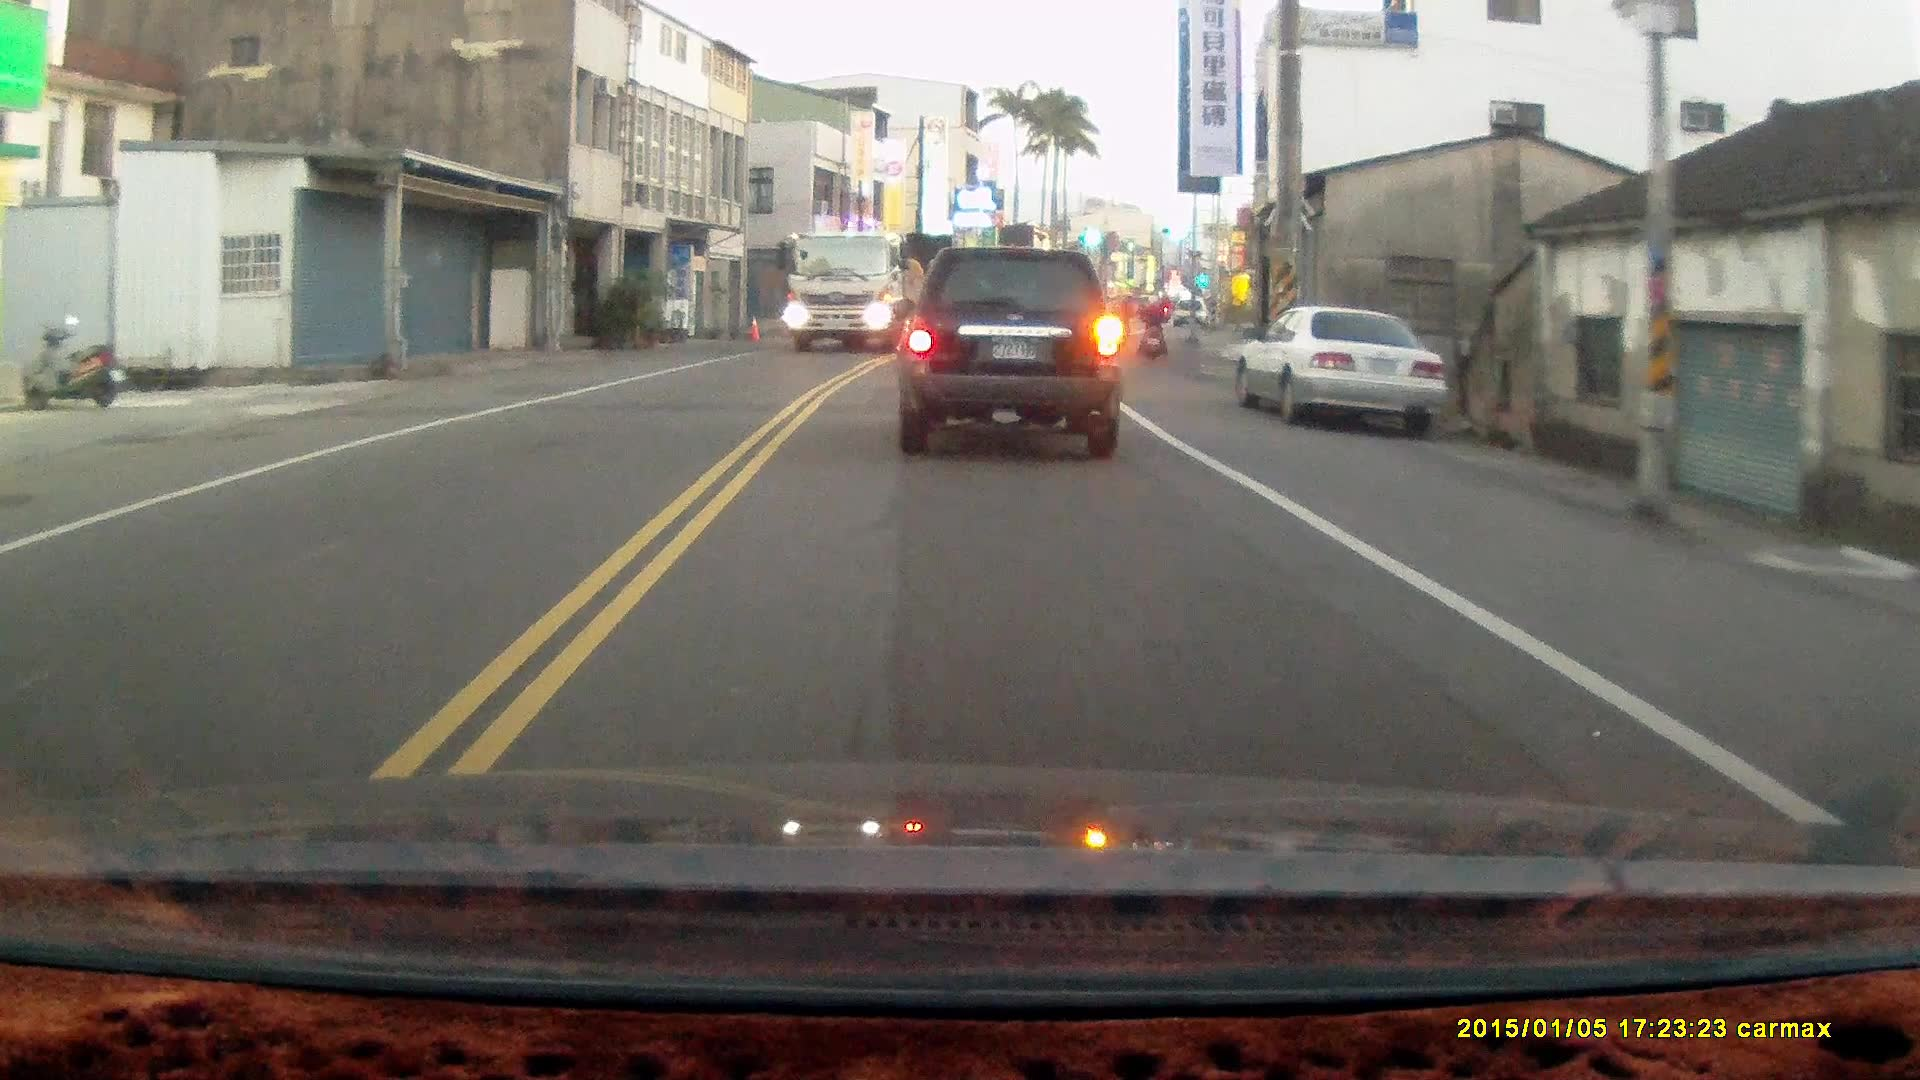rider: (1137, 291, 1168, 363), (1104, 291, 1132, 357)
vehicle: (891, 251, 1132, 460), (1239, 306, 1454, 438), (781, 236, 926, 358)
